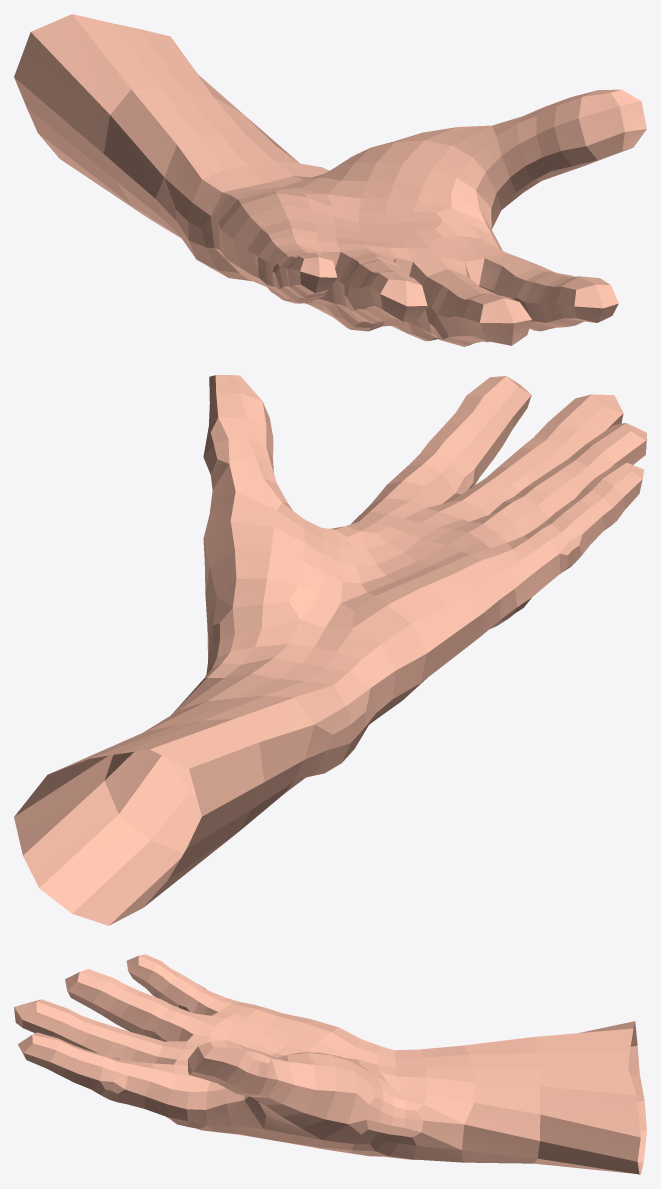
File: 2_8_HandPolygonalLeftFront.glb
The picture shows the model from 3 angles, top to bottom: view 1: azimuth 30°, elevation 25°; view 2: azimuth 150°, elevation 25°; view 3: azimuth 270°, elevation 25°; orthographic projection. The views are drawn at different scales.
Visible parts, largest first — view 1: hand_man_polySurface1.007; view 2: hand_man_polySurface1.007; view 3: hand_man_polySurface1.007.
Boxes of the visible parts, bbox=[...] form: hand_man_polySurface1.007: bbox=[14, 14, 646, 346]; hand_man_polySurface1.007: bbox=[14, 375, 646, 925]; hand_man_polySurface1.007: bbox=[14, 954, 646, 1174].
Bounding box in the file's own units: 0.0799 × 0.0535 × 0.1653.
